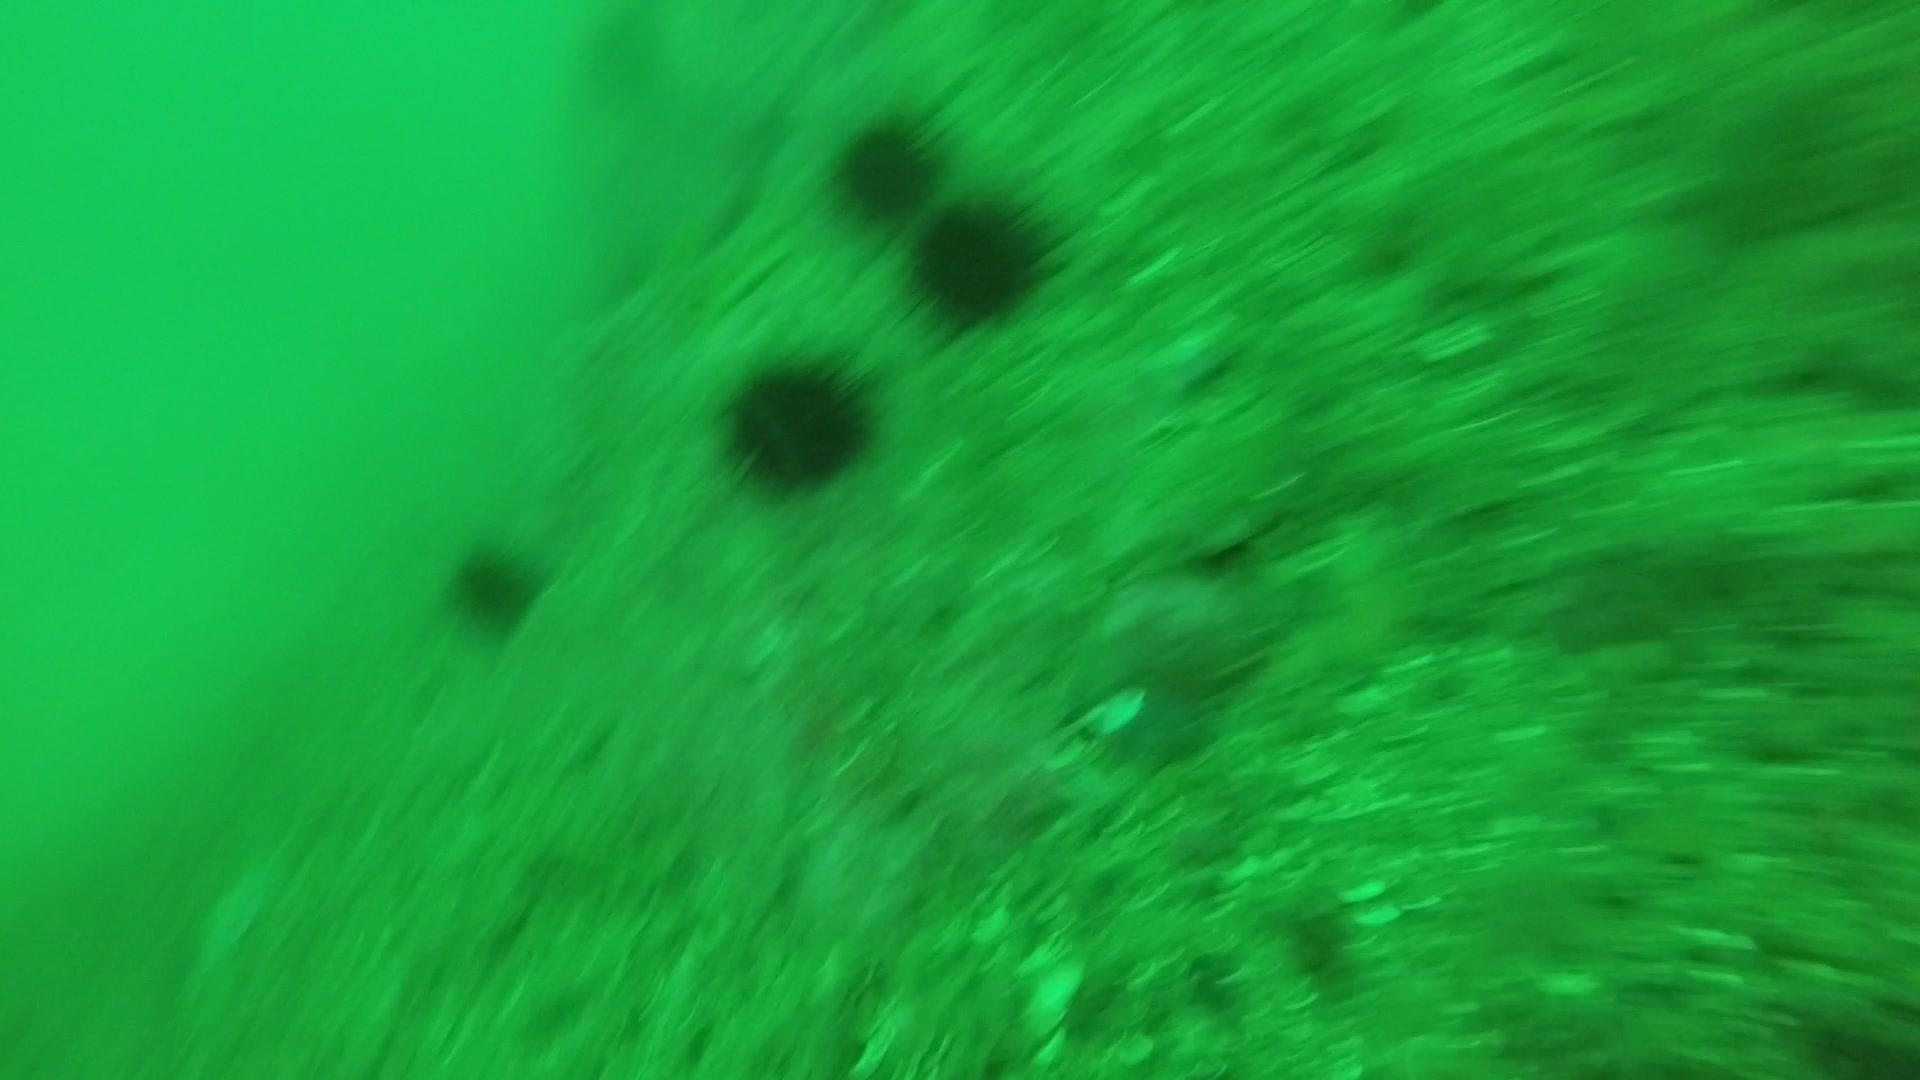echinus: (712, 347, 884, 498), (901, 187, 1060, 331), (827, 107, 951, 225), (440, 533, 550, 638)
